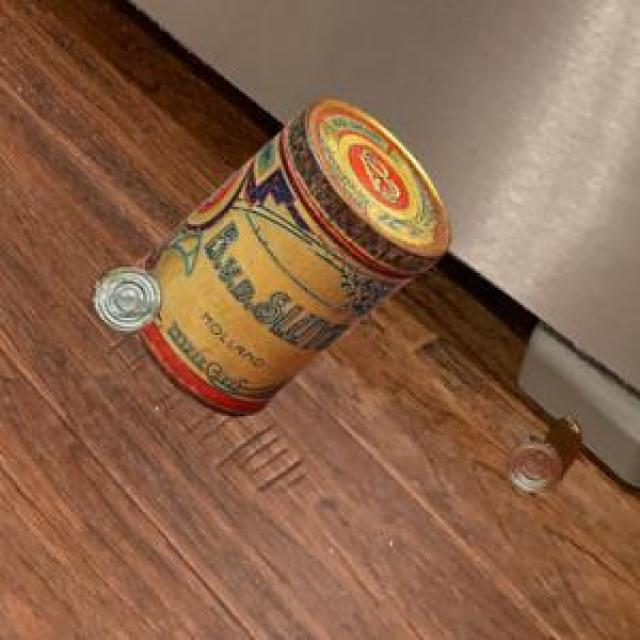logam: (129, 95, 447, 413), (505, 415, 577, 487), (89, 263, 157, 327)
